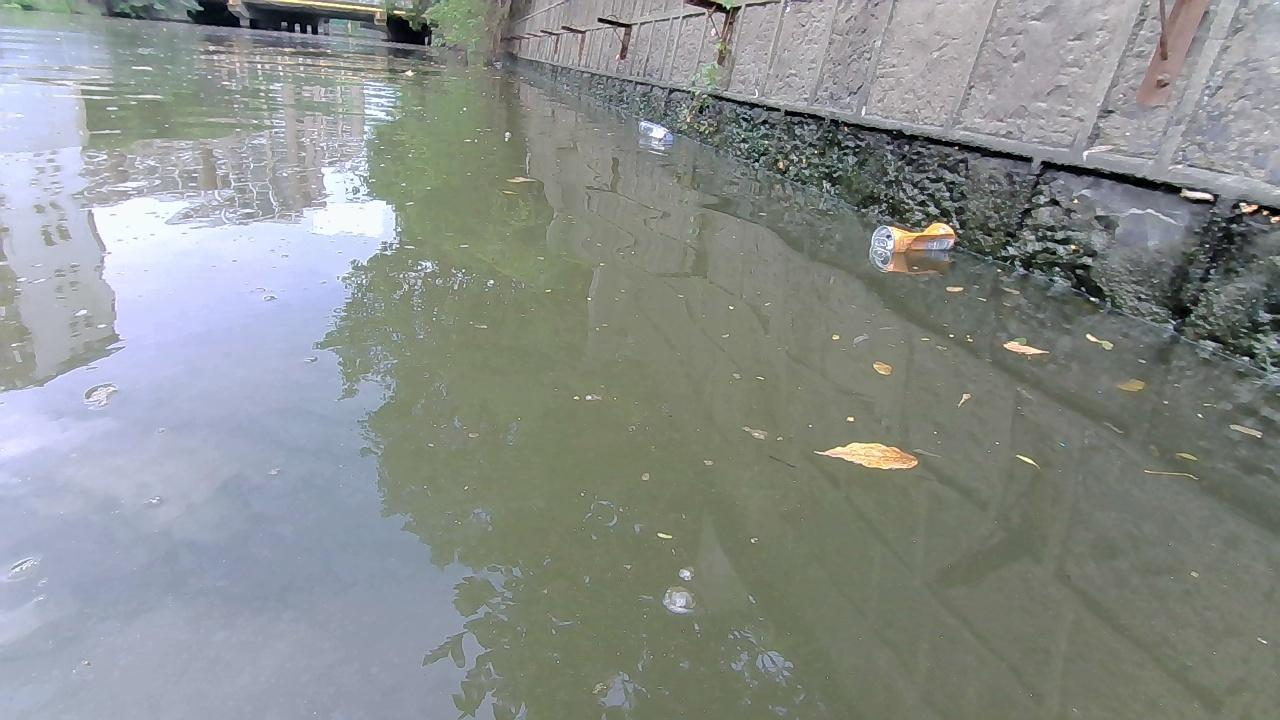bottle: (869, 221, 956, 252), (637, 120, 672, 139)
